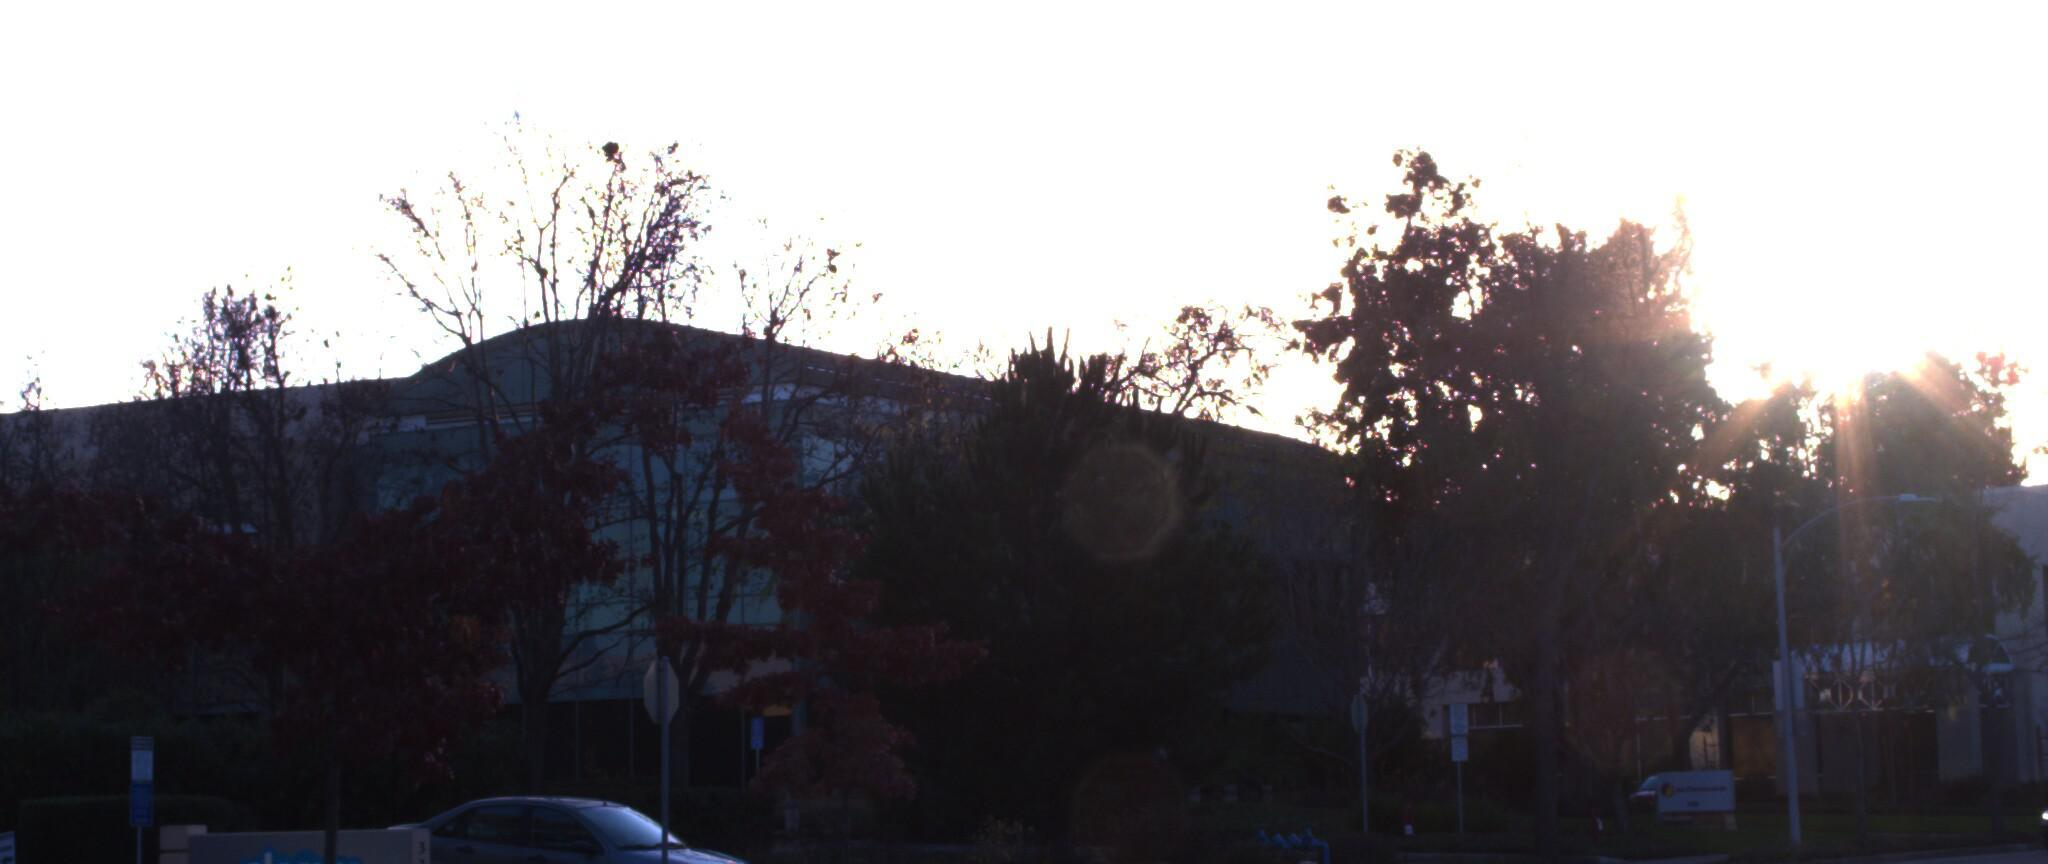car: (363, 767, 805, 864), (2000, 758, 2048, 856)
